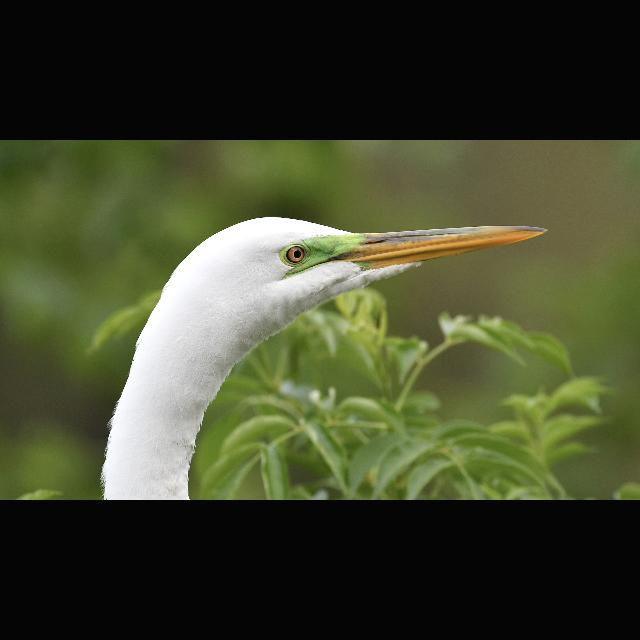egret: (96, 206, 556, 499)
